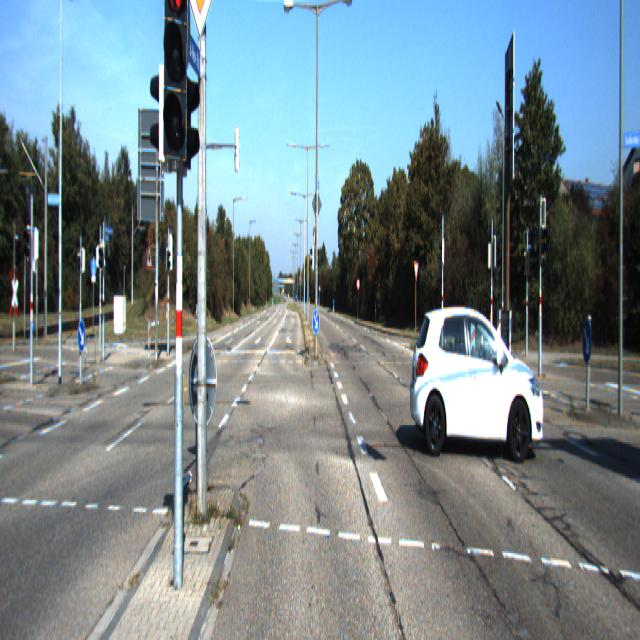Car: (409, 298, 547, 463)
